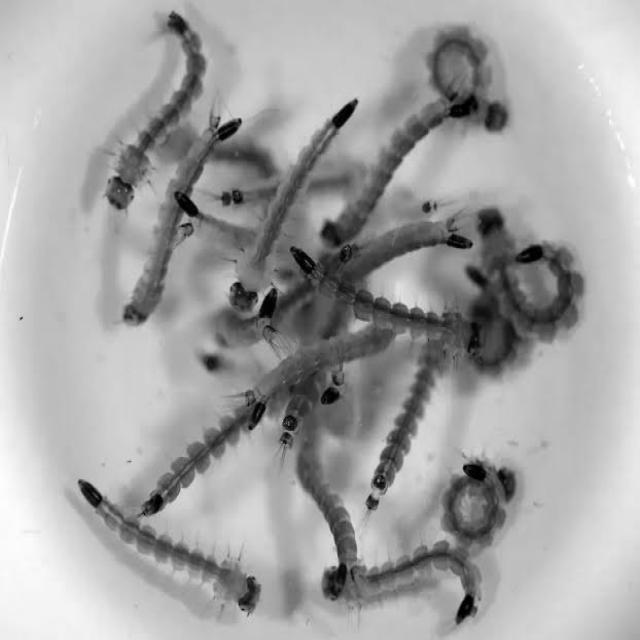larvas: (228, 99, 357, 310), (122, 97, 241, 325), (228, 99, 356, 309), (79, 480, 259, 611), (321, 80, 459, 244), (291, 247, 478, 356), (105, 13, 206, 209), (478, 208, 583, 340), (322, 540, 479, 623), (366, 341, 438, 510), (140, 408, 250, 515), (254, 325, 393, 397), (341, 218, 471, 288), (297, 421, 356, 567), (428, 26, 507, 131), (443, 458, 514, 547), (467, 266, 519, 367), (175, 192, 254, 254), (281, 366, 325, 445), (205, 175, 280, 205), (307, 164, 363, 196), (321, 300, 346, 339)
